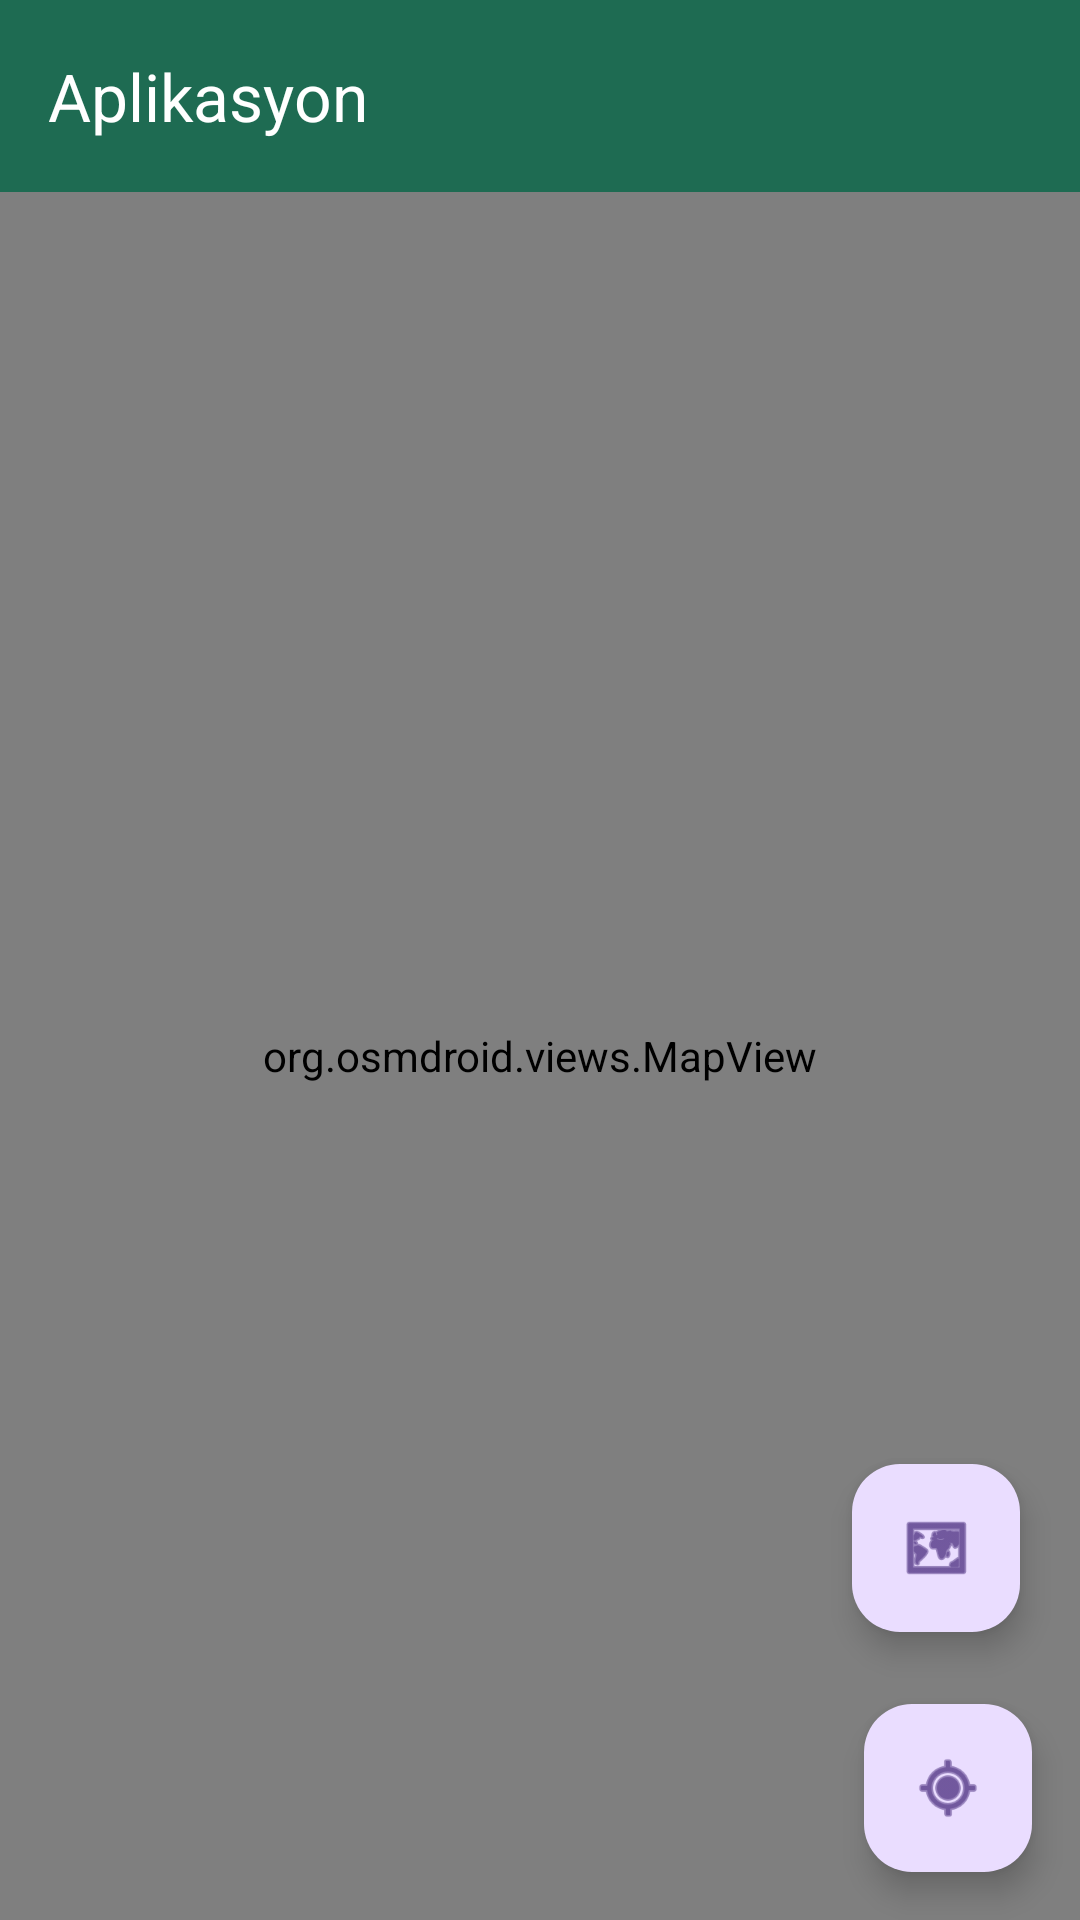

Screen size 1080*1920. Icon name, then its center in pixels as [x,y]:
Konumum: [948,1788]
Tüm noktalar: [936,1548]
